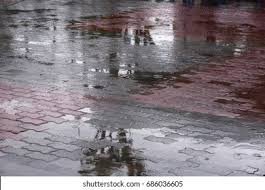Wet-floor: (0, 1, 265, 176)
